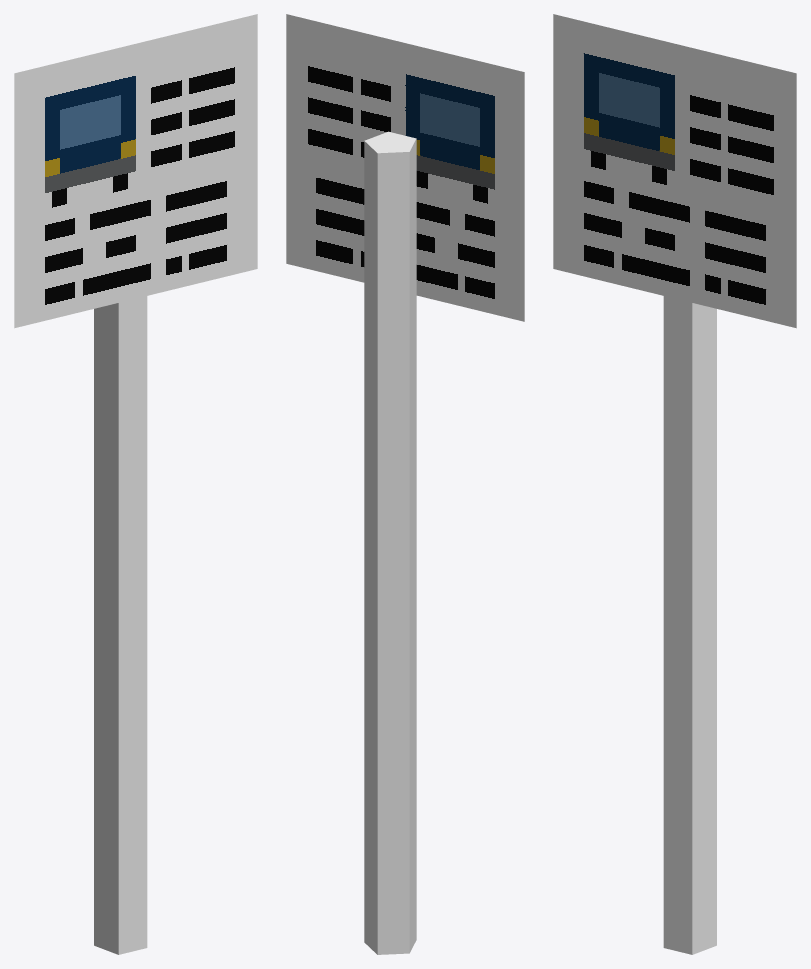
File: bus_stop.dae
3 renders of one model, left to right at view 1: azimuth 30°, elevation 25°; view 2: azimuth 150°, elevation 25°; view 3: azimuth 330°, elevation 25°, orthographic. The views are drawn at different scales.
Visible parts, largest first — view 1: Cube; view 2: Cube; view 3: Cube.
Boxes of the visible parts, left/top/right/bottom form: Cube: left=14, top=14, right=257, bottom=954; Cube: left=286, top=14, right=524, bottom=954; Cube: left=553, top=14, right=796, bottom=954.
Bounding box in the file's own units: 1 × 0.2028 × 3.57.
Materials: 1 (1 with a texture image).
